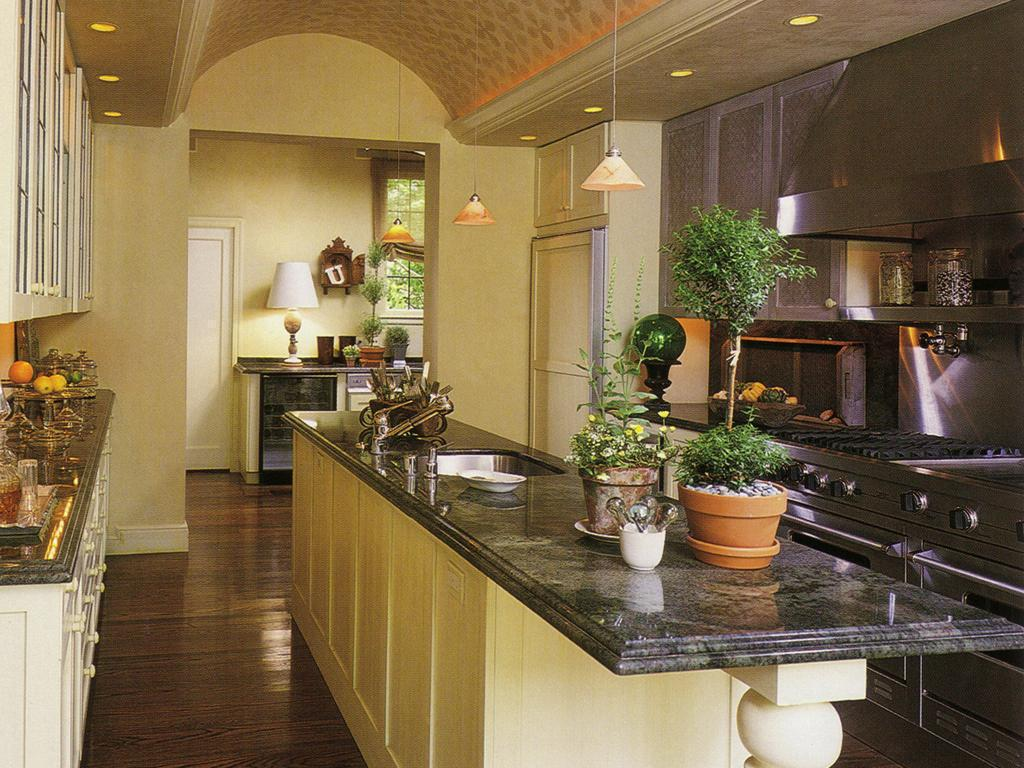Electrodomestico: (768, 426, 901, 562), (898, 469, 1023, 602)
Lavaplatos: (350, 378, 585, 487)
